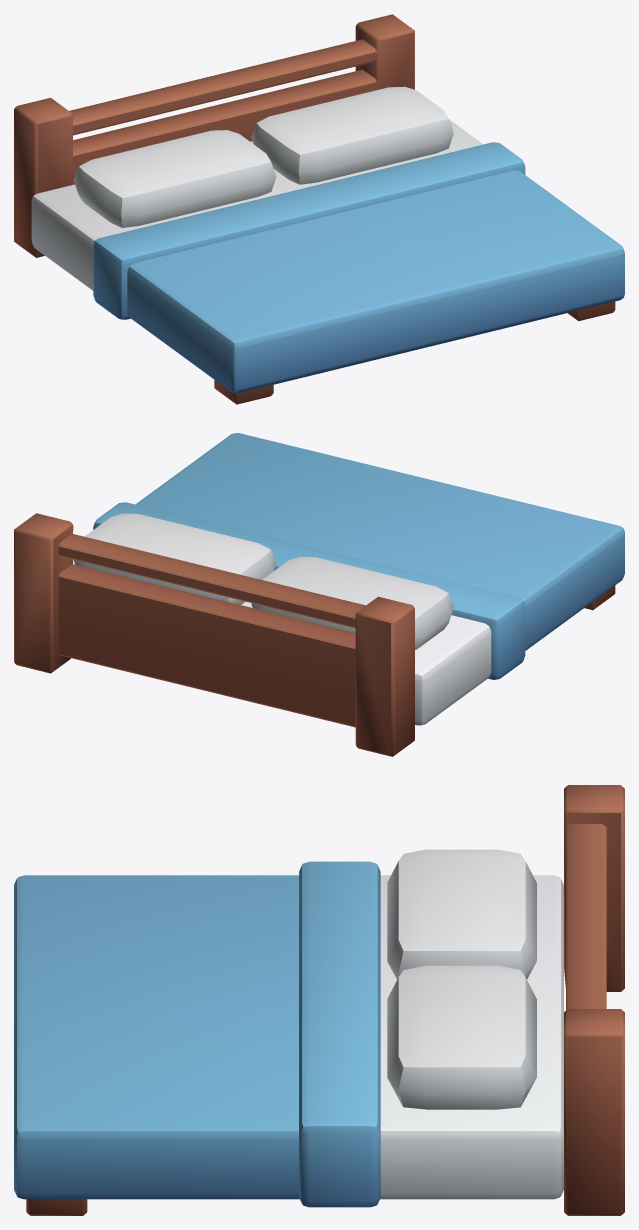
File: kkf.bed_double_a.glb
3 views of the same model, one above another, from view 1: azimuth 30°, elevation 25°; view 2: azimuth 150°, elevation 25°; view 3: azimuth 270°, elevation 25° (orthographic). The views are drawn at different scales.
Visible parts, largest first — view 1: bed_double_A; view 2: bed_double_A; view 3: bed_double_A.
Boxes of the visible parts, x1,y1,x2,y2 form: bed_double_A: [14, 14, 624, 404]; bed_double_A: [14, 433, 624, 756]; bed_double_A: [14, 785, 624, 1215].
Size of the model in its own units: 2.22 by 0.7154 by 2.15.
1 material, 1 textured.
